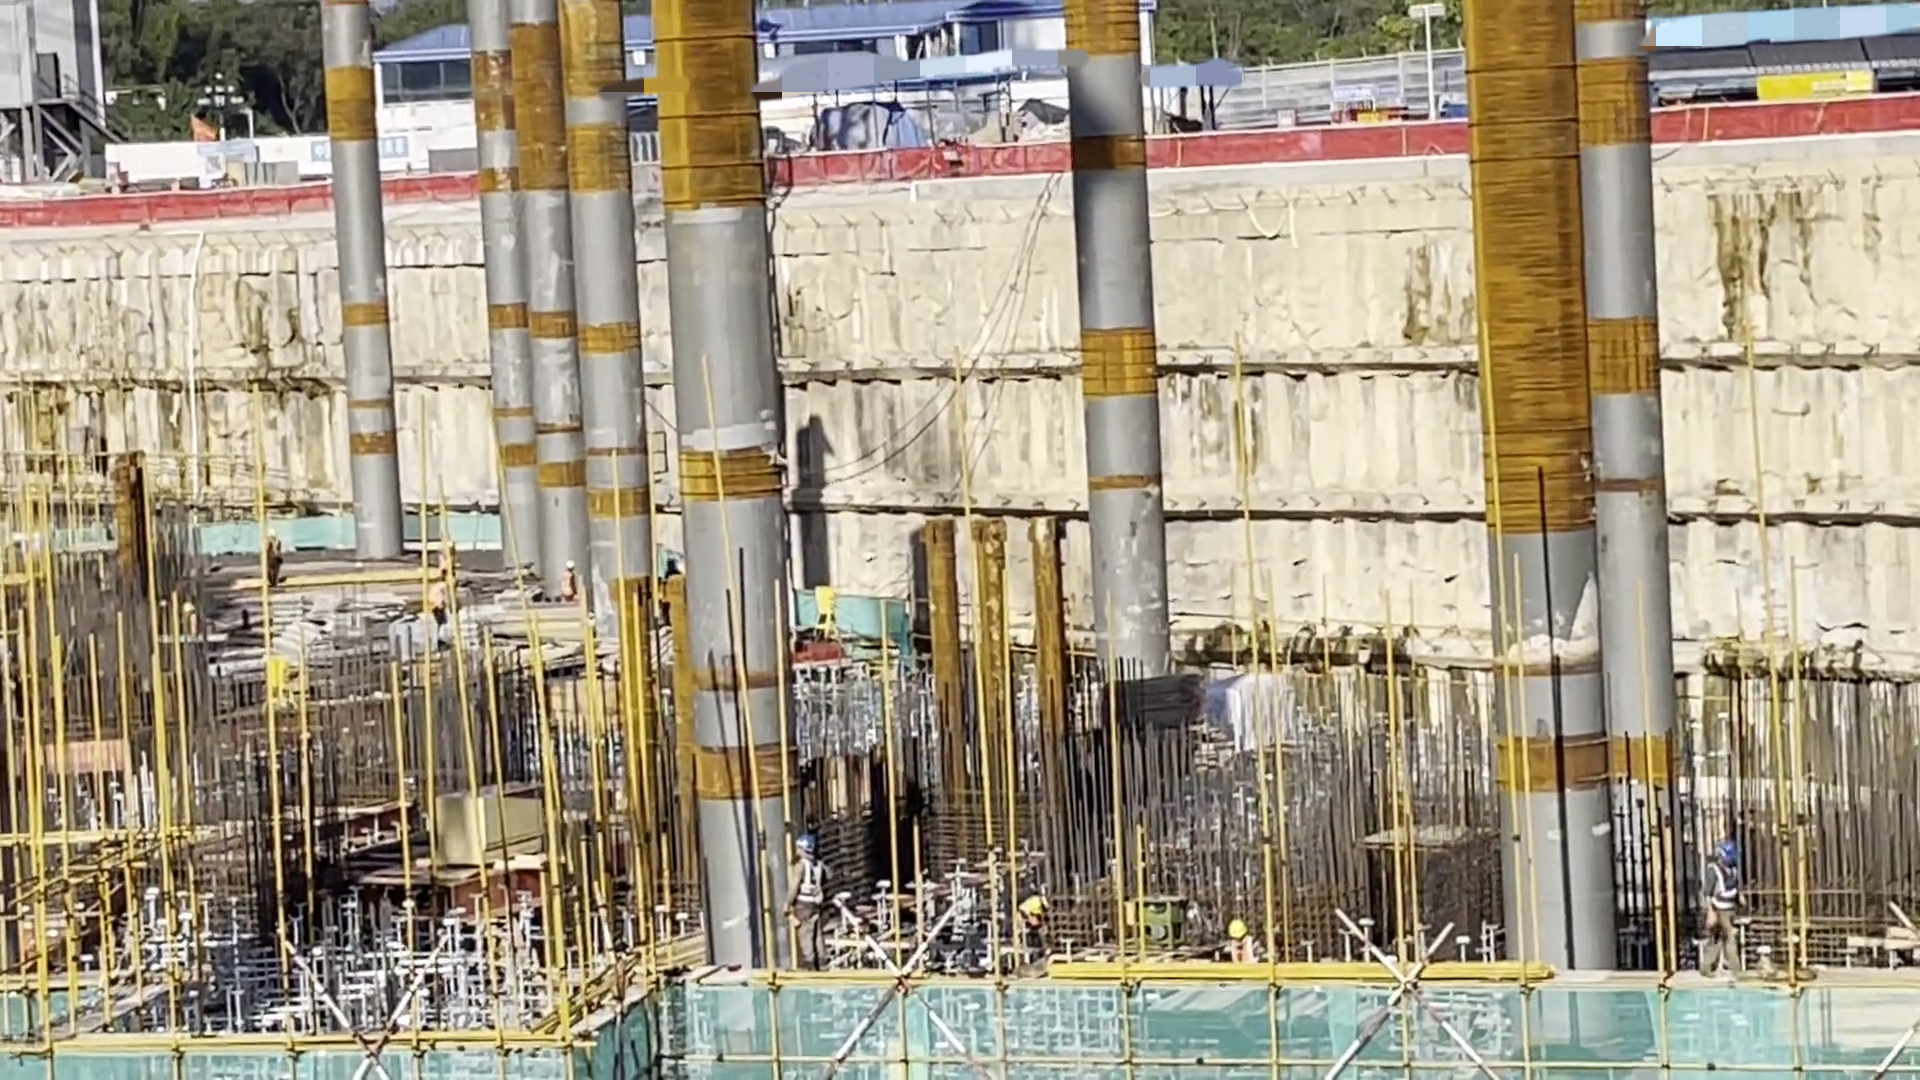helmet: (1228, 918, 1248, 939), (796, 836, 814, 853)
person: (1705, 839, 1746, 980), (792, 837, 824, 972), (1217, 918, 1258, 970)
vest: (1713, 864, 1738, 918), (794, 864, 821, 904)
